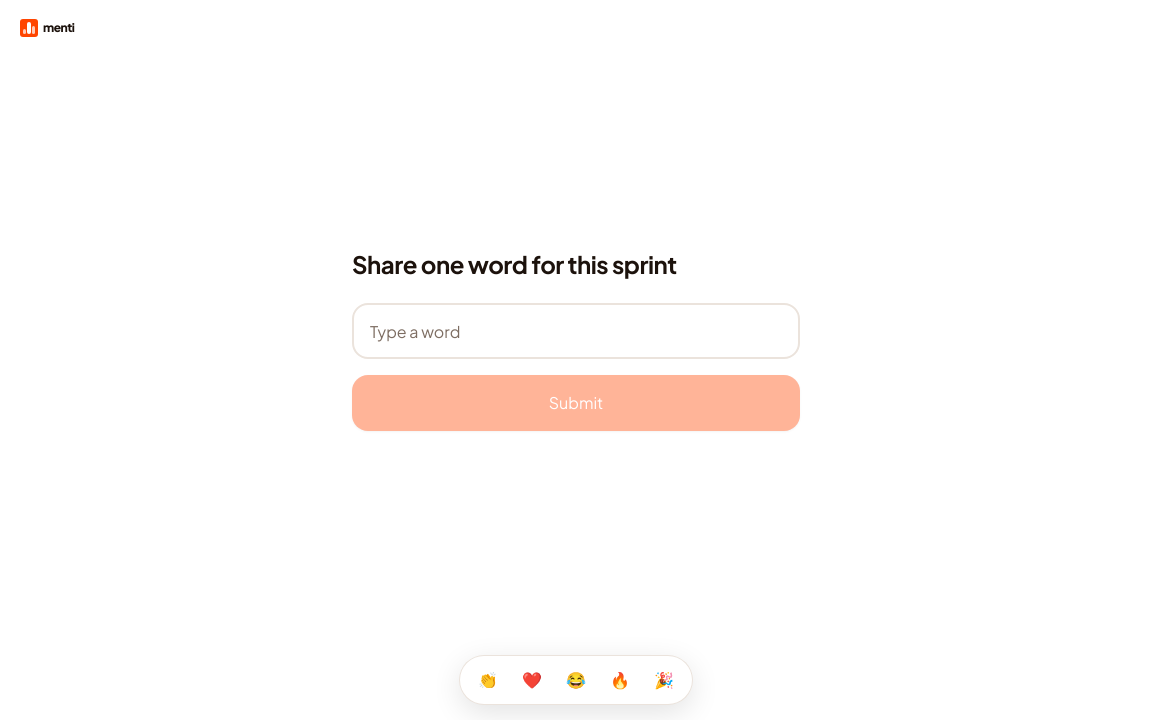
VotePage › locks a single-submit word-cloud prompt after the participant answers
This screenshot has width=1152, height=720.
Check: the heading "Share one word for this sprint" is shown, box x1=352 y1=249 x2=677 y2=279
Type "productive" into the field named "your word" at (576, 331), box x1=352 y1=303 x2=800 y2=359
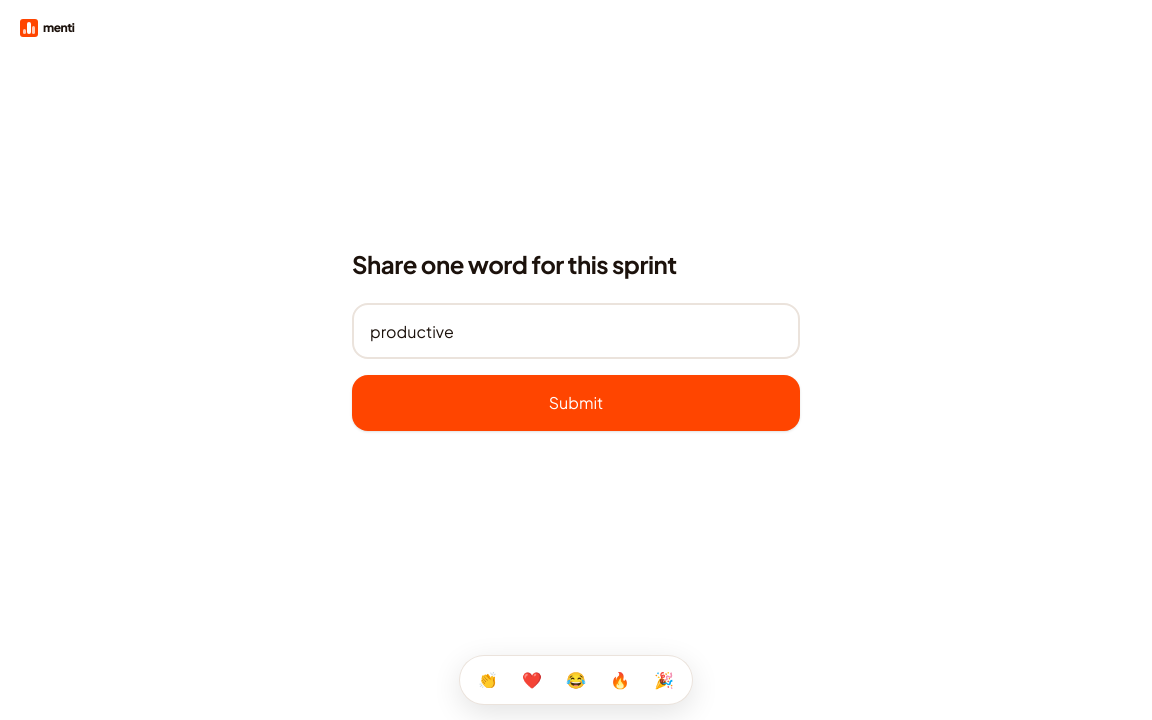
Click the button "Submit" at (576, 403), box x1=352 y1=375 x2=800 y2=431
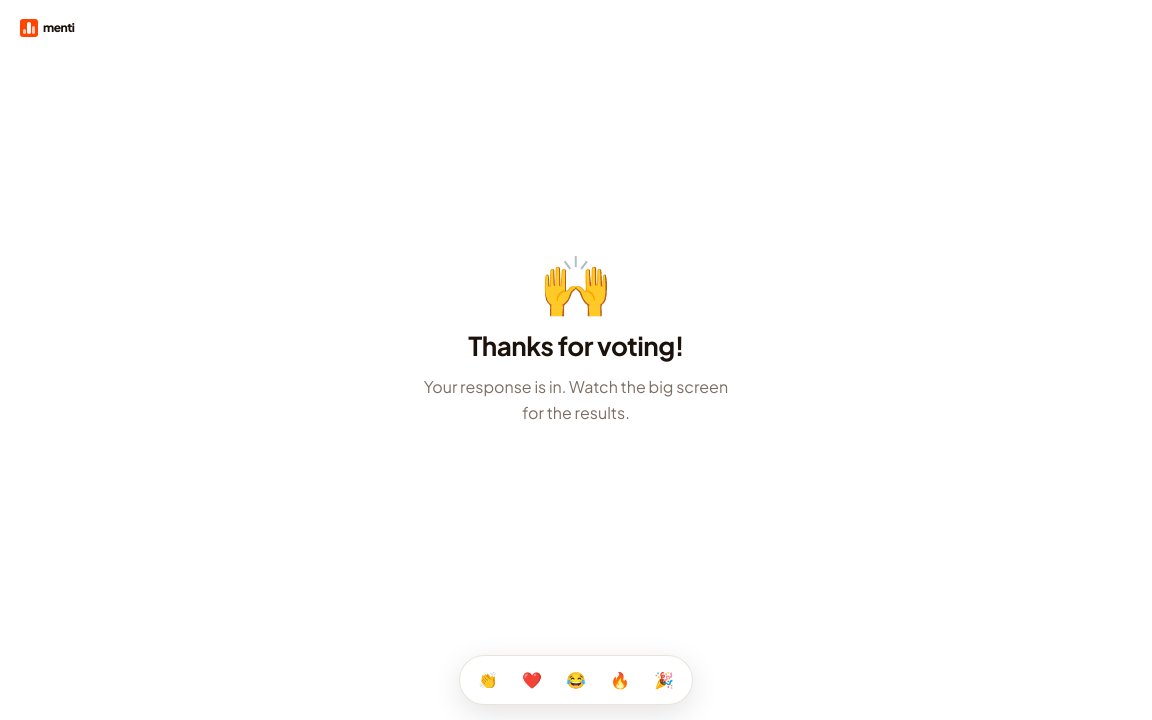
Check: the field labelled "your word" is not shown
Check: the heading "Thanks for voting!" is shown, box x1=468 y1=329 x2=684 y2=362
